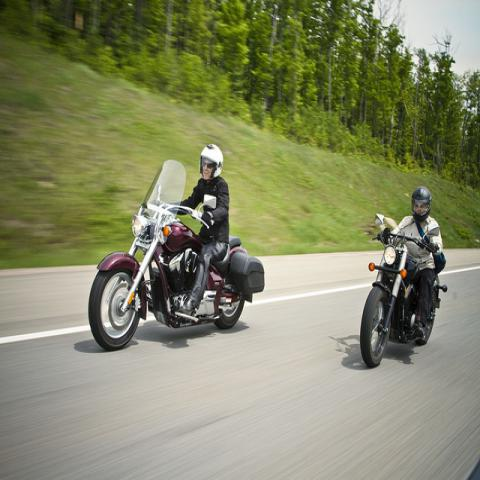motorcycle: (88, 158, 268, 354), (361, 212, 448, 368)
